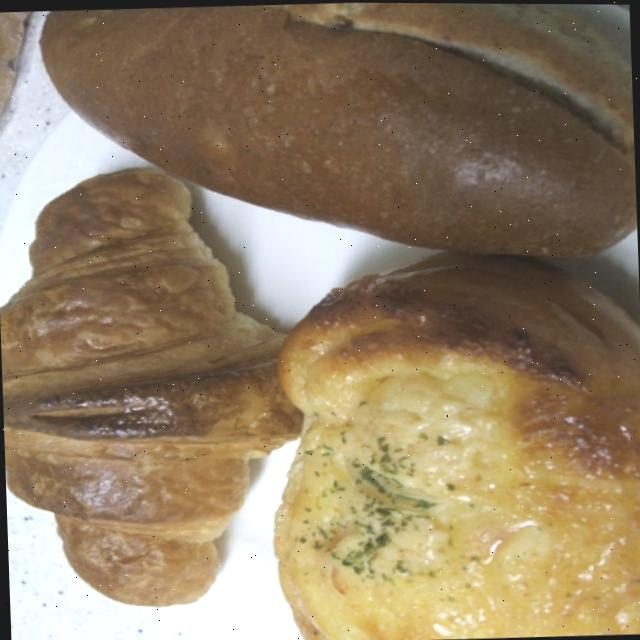三明治: (247, 217, 640, 640)
